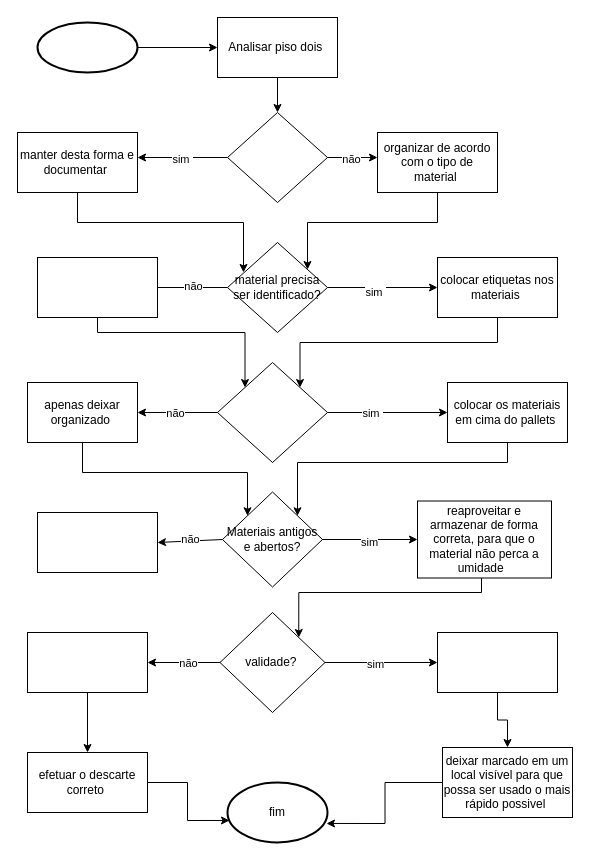
Some shapes in this 590 by 861 pixel diagram are drawn without their labels. Each missing label, with the centre of its shape:
"Analisar os materiais se estão nos locais corretos" belongs at point 277,157.
"deixar junto com os demais" belongs at point 97,287.
"dentro da validade" belongs at point 497,662.
"fora da validade" belongs at point 87,662.
"Inicio" belongs at point 87,47.
"material precisa ter um suporte de pallets?" belongs at point 272,412.
"perfeito!!!" belongs at point 97,542.
